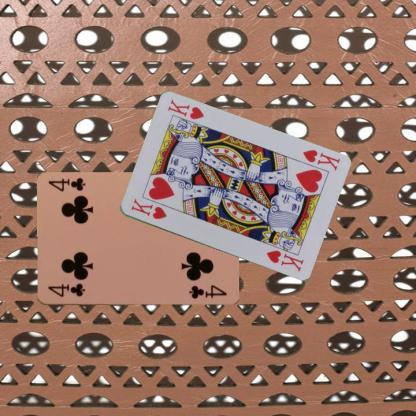4c: (45, 281, 86, 298)
Kh: (299, 147, 341, 173), (128, 196, 168, 221)
